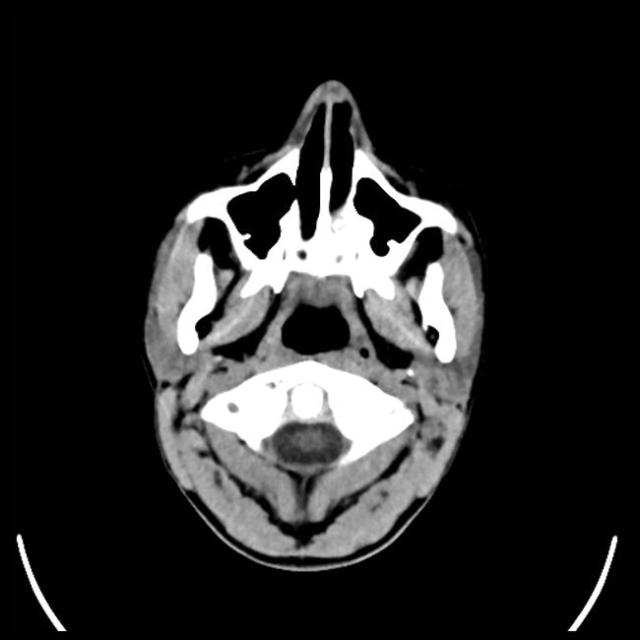lesion: (138, 76, 490, 574)
